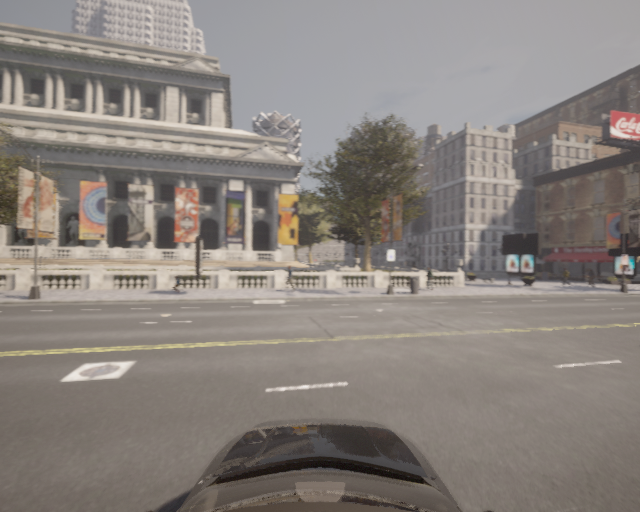poster: (16, 165, 59, 239), (76, 177, 111, 242), (125, 182, 157, 244), (173, 184, 202, 246), (273, 191, 299, 247), (223, 186, 247, 243), (609, 108, 640, 141), (613, 251, 640, 278), (505, 250, 520, 275), (519, 254, 535, 274)
